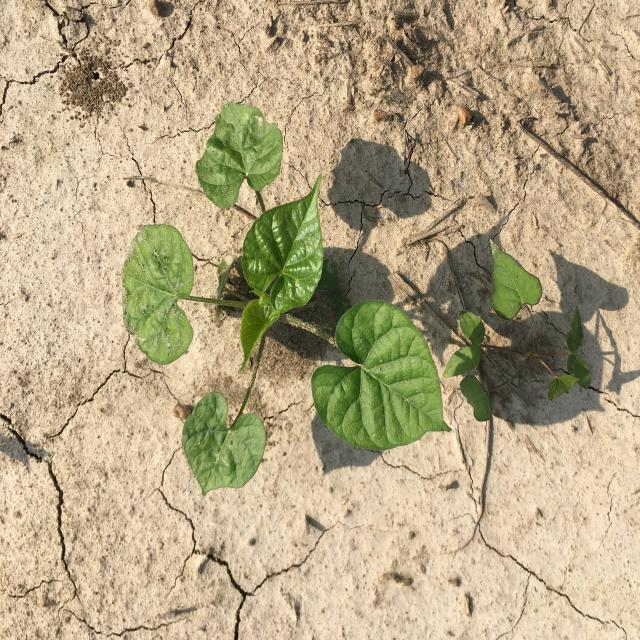MorningGlory: (122, 101, 452, 496), (443, 239, 591, 421)
